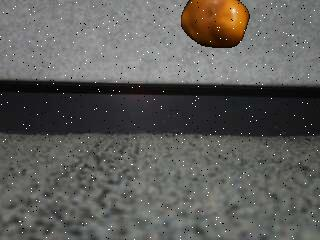Potato: (180, 0, 252, 50)
